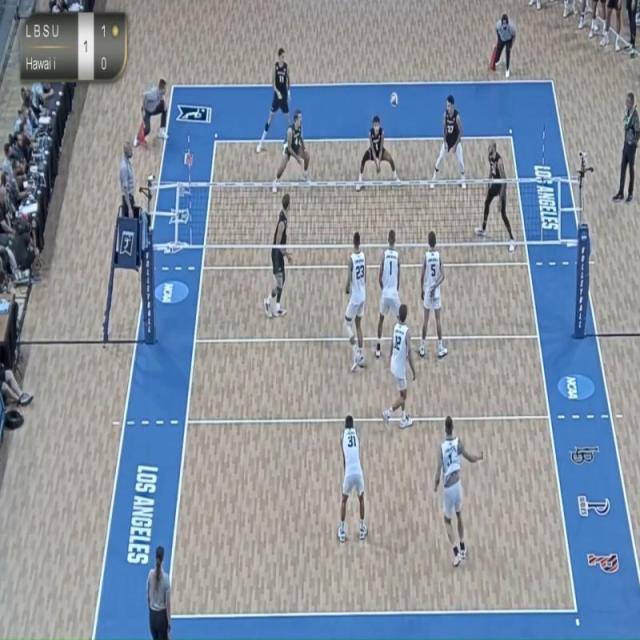volleyball: (388, 89, 400, 111)
